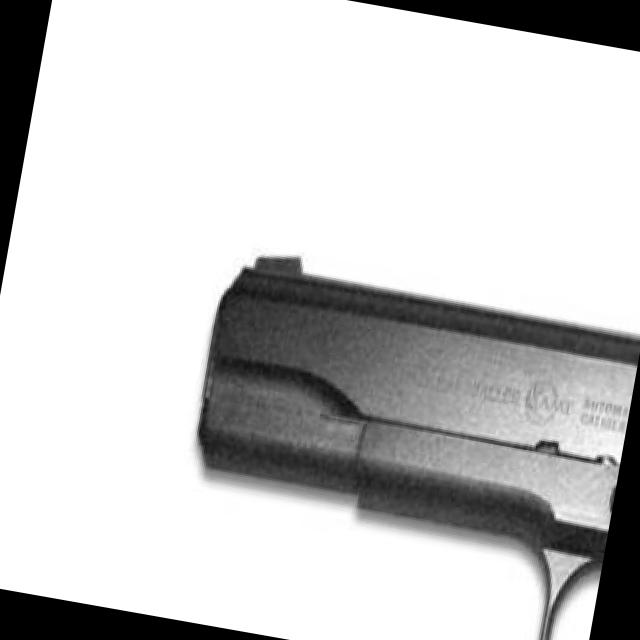Guns: (89, 161, 640, 640)
